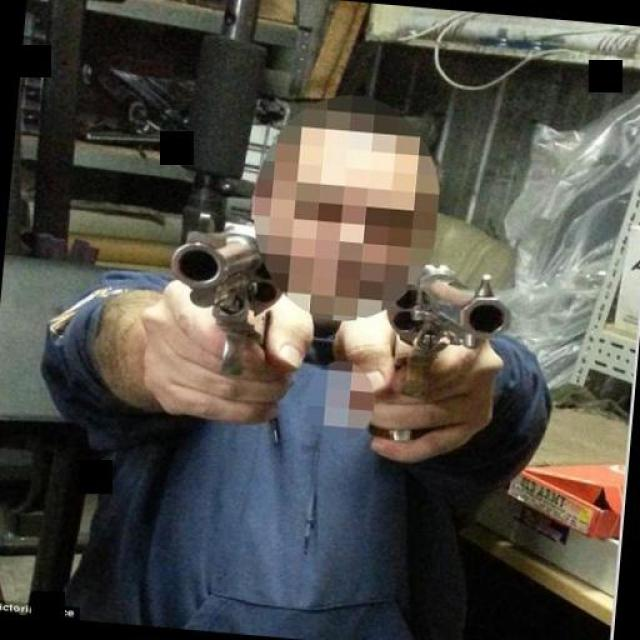gun: (363, 250, 515, 455), (158, 221, 278, 381)
